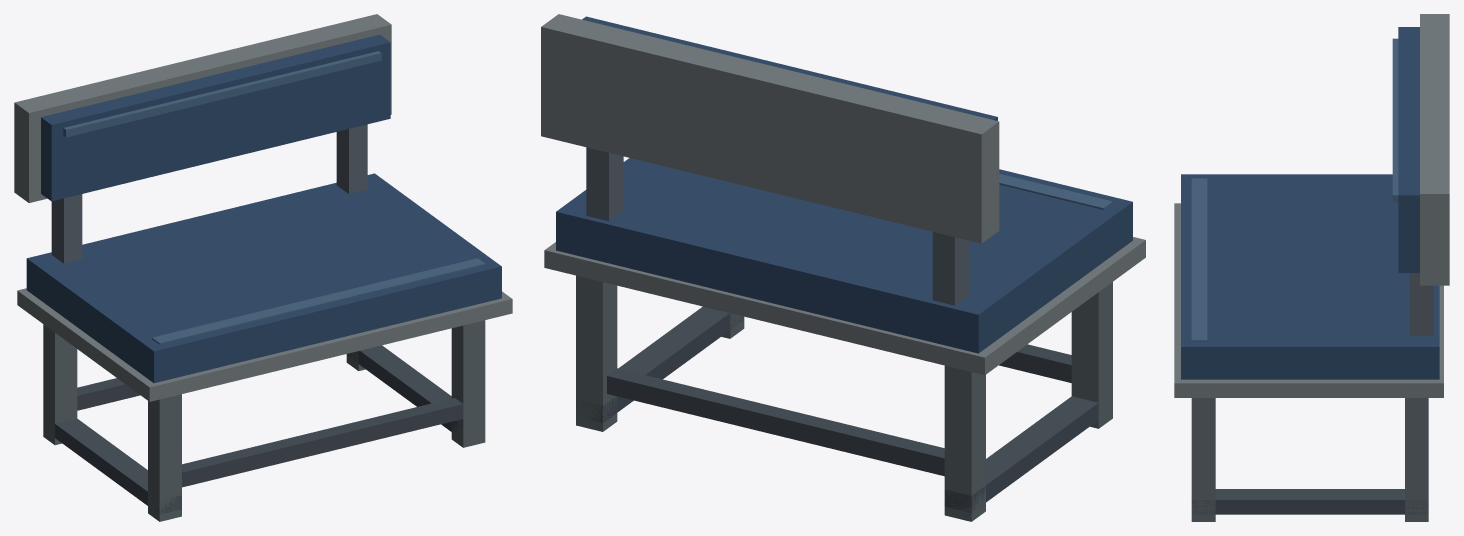
The model's file is CMU3DBlueComfyBench.glb.
3 renders of one model, left to right at view 1: azimuth 30°, elevation 25°; view 2: azimuth 150°, elevation 25°; view 3: azimuth 270°, elevation 25°, orthographic. The views are drawn at different scales.
Parts seen in each view (by area): view 1: seat cushion, back cushion, bench leg (×3), back metal rim, seat metal pan, lower horizontal stretcher (×2), side floor runner (×2), back support (×2), back upper seam, seat top seam; view 2: back metal rim, seat cushion, bench leg (×3), seat metal pan, lower horizontal stretcher (×2), side floor runner (×2), back support (×2), back cushion, seat top seam; view 3: seat cushion, back metal rim, seat metal pan, bench leg (×2), back cushion, side floor runner, seat top seam, back support, back upper seam.
Part boxes in pixels (box(x1,y1,x2,y2)): seat cushion: box(26, 173, 501, 383); back cushion: box(41, 34, 390, 201); bench leg (×3): box(43, 320, 485, 521); back metal rim: box(14, 14, 391, 202); seat metal pan: box(17, 288, 512, 401); lower horizontal stretcher (×2): box(77, 378, 463, 487); side floor runner (×2): box(55, 345, 461, 514); back support (×2): box(51, 124, 367, 263); back upper seam: box(63, 51, 381, 137); seat top seam: box(152, 258, 485, 344); back metal rim: box(541, 14, 999, 243); seat cushion: box(556, 158, 1132, 353); bench leg (×3): box(576, 275, 1112, 521); seat metal pan: box(544, 237, 1145, 375); lower horizontal stretcher (×2): box(607, 344, 1071, 476); side floor runner (×2): box(576, 306, 1098, 512); back support (×2): box(586, 147, 969, 305); back cushion: box(582, 16, 997, 120); seat top seam: box(999, 174, 1112, 209); seat cushion: box(1181, 174, 1439, 379); back metal rim: box(1420, 14, 1449, 285); seat metal pan: box(1174, 203, 1443, 397); bench leg (×2): box(1191, 398, 1428, 521); back cushion: box(1398, 27, 1419, 272); side floor runner: box(1191, 489, 1428, 514); seat top seam: box(1191, 178, 1207, 341); back support: box(1409, 273, 1433, 335); back upper seam: box(1392, 38, 1398, 202).
Bounding box in the file's own units: 0.98 × 0.855 × 0.633.
